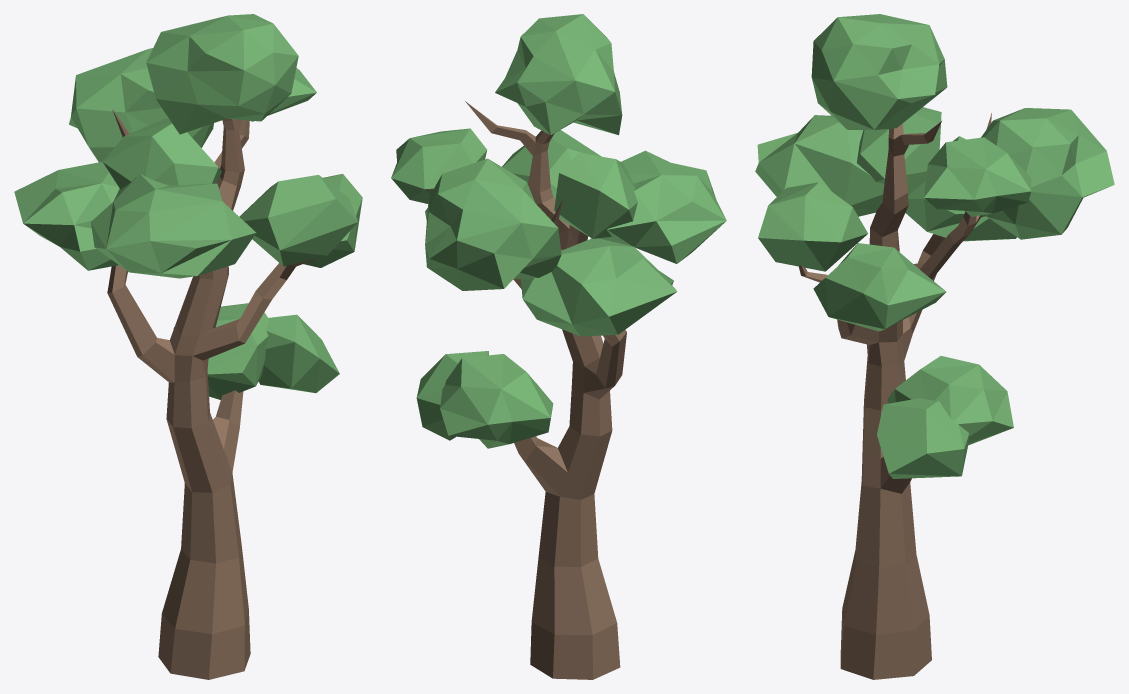
Rendered from swamp_trees5.fbx.
3 renders of one model, left to right at view 1: azimuth 30°, elevation 25°; view 2: azimuth 150°, elevation 25°; view 3: azimuth 270°, elevation 25°, orthographic. The views are drawn at different scales.
Parts seen in each view (by area): view 1: Cylinder.005, Cylinder.004; view 2: Cylinder.005, Cylinder.004; view 3: Cylinder.005, Cylinder.004.
Part boxes in pixels (x1,y1,x2,y2): Cylinder.005: (14, 14, 362, 399); Cylinder.004: (107, 109, 315, 679); Cylinder.005: (391, 14, 726, 448); Cylinder.004: (425, 101, 626, 679); Cylinder.005: (755, 14, 1114, 478); Cylinder.004: (799, 113, 991, 679).
Size of the model in its own units: 375 by 779 by 390.
